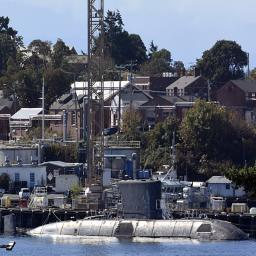submarine: (5, 180, 253, 242)
